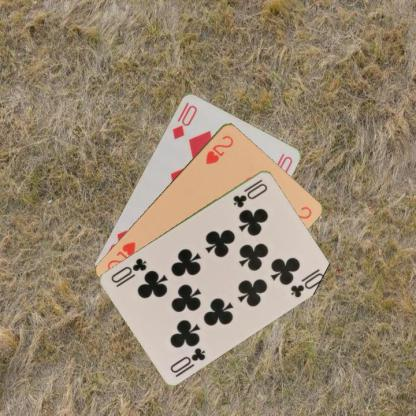10c: (230, 176, 269, 209), (167, 344, 207, 374)
10d: (169, 99, 198, 140)
2h: (203, 132, 235, 165)
